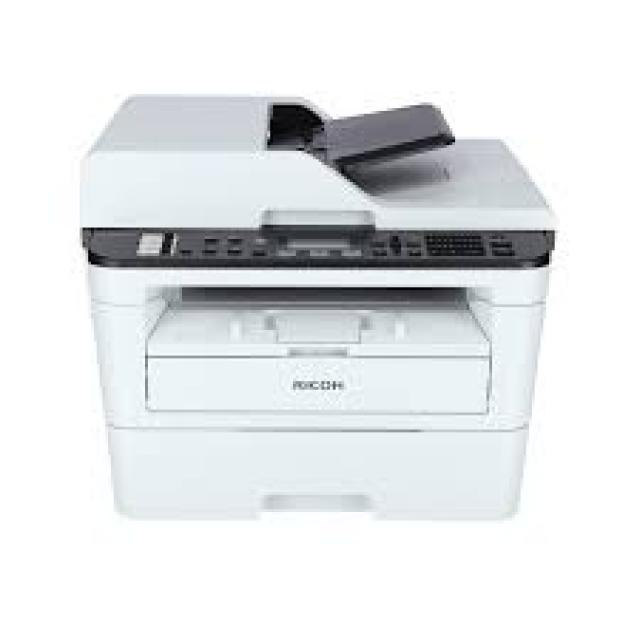printer: (77, 91, 557, 521)
